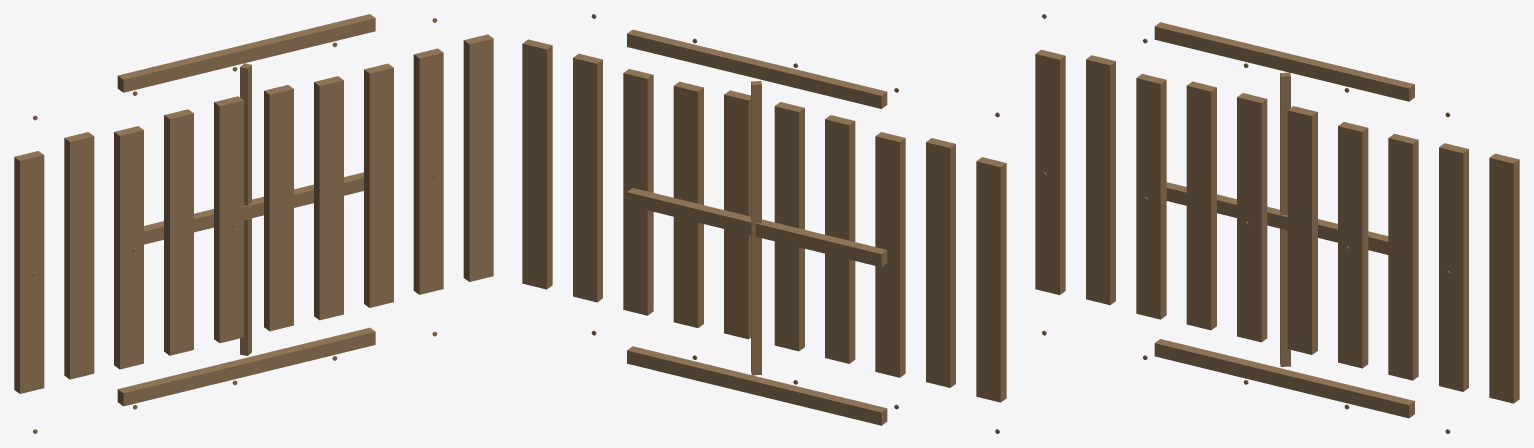
File: wooden_wall.glb
3 views of the same model, side by side, from view 1: azimuth 30°, elevation 25°; view 2: azimuth 150°, elevation 25°; view 3: azimuth 330°, elevation 25° (orthographic).
Visible parts, largest first — view 1: wooden_wall; view 2: wooden_wall; view 3: wooden_wall.
Boxes of the visible parts, left/top/right/bottom form: wooden_wall: left=14, top=14, right=493, bottom=433; wooden_wall: left=522, top=14, right=1006, bottom=433; wooden_wall: left=1035, top=14, right=1519, bottom=433.
Size of the model in its own units: 1.9 by 1.25 by 0.1218.
